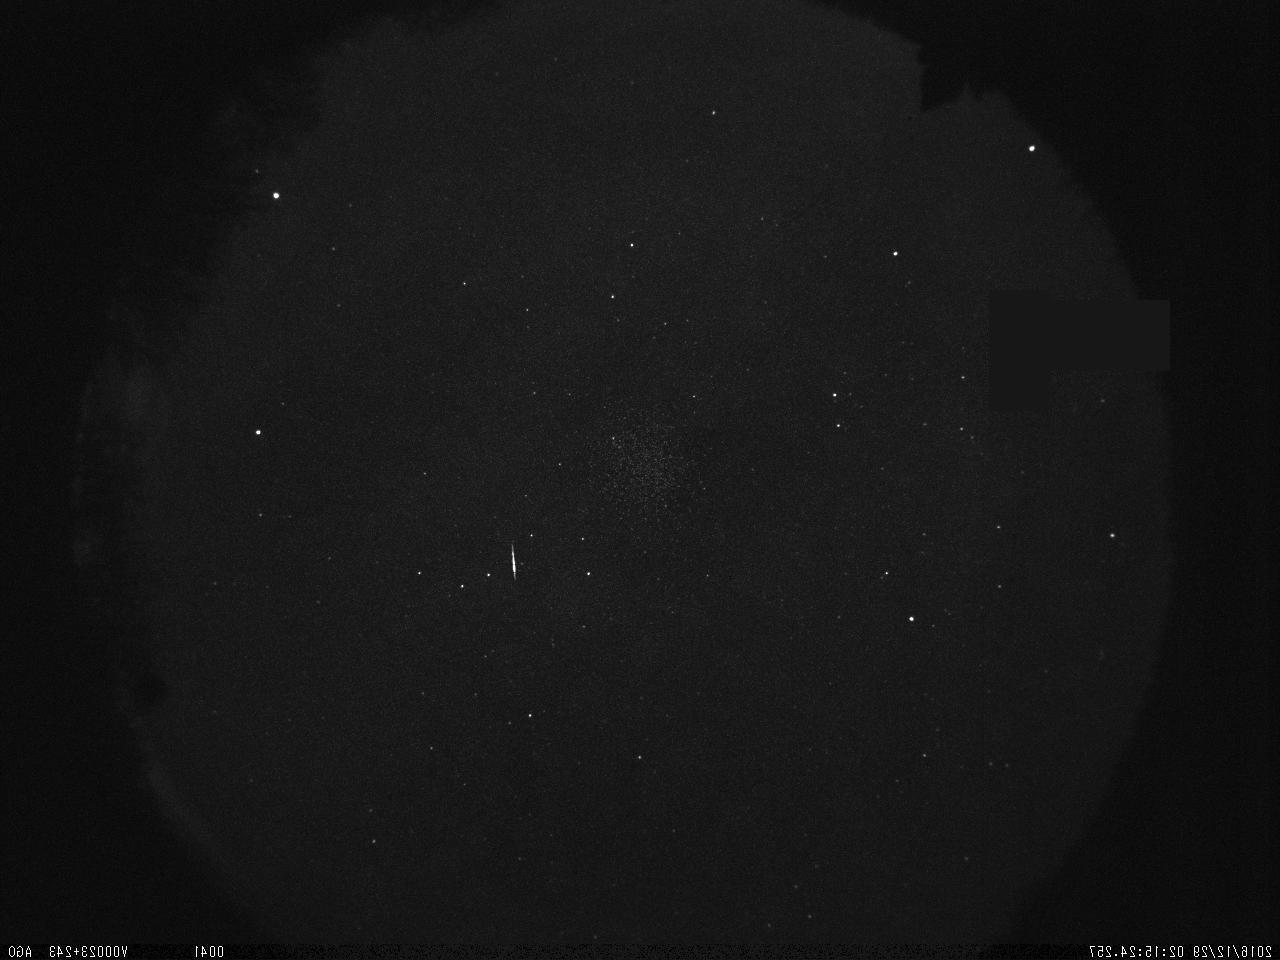meteor: (495, 531, 529, 589)
